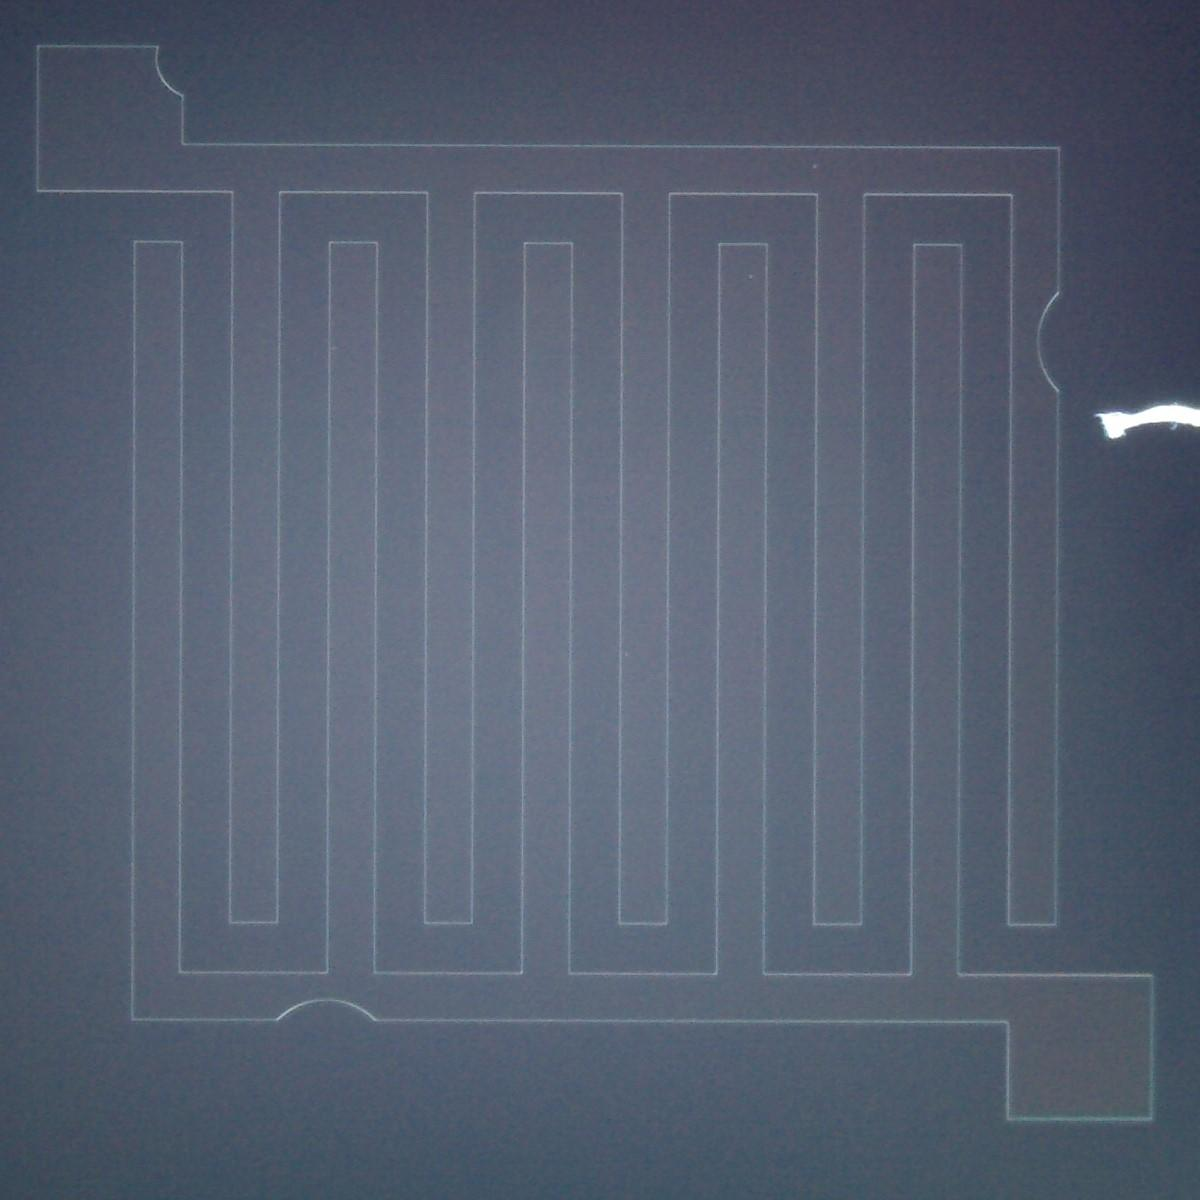cut: (249, 985, 390, 1038), (1027, 274, 1077, 412), (137, 32, 212, 116)
foreign: (1093, 401, 1200, 442)
s_point: (801, 156, 831, 180), (737, 264, 764, 289)
